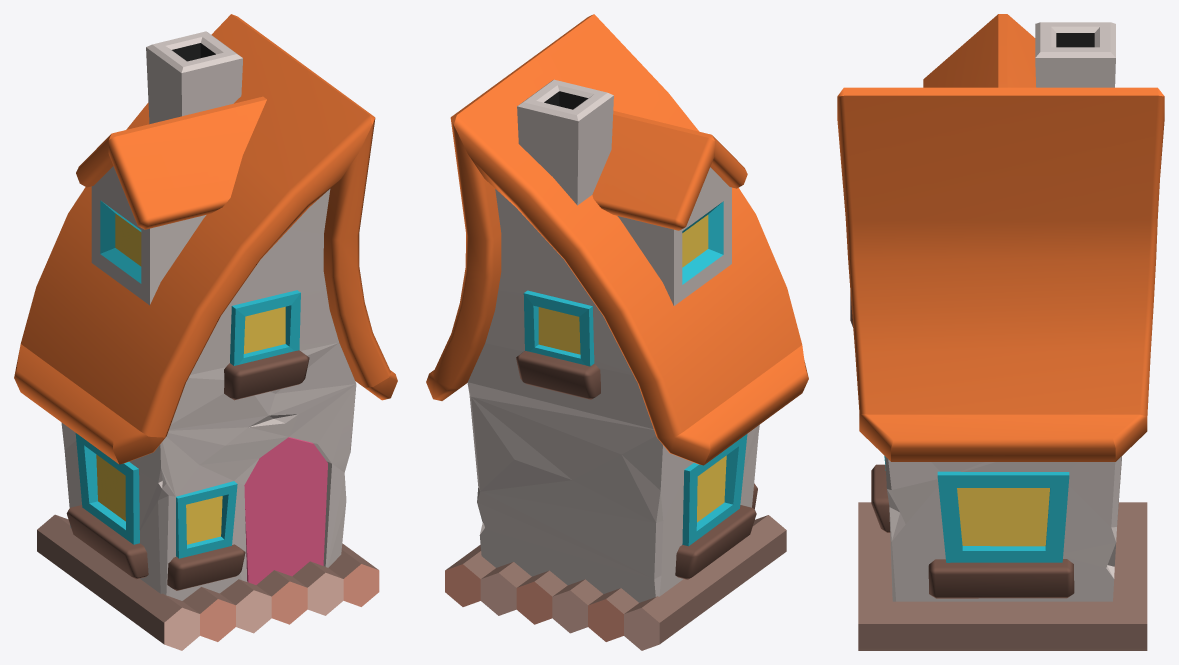
File: house_005.fbx
The picture shows the model from 3 angles, left to right: view 1: azimuth 30°, elevation 25°; view 2: azimuth 150°, elevation 25°; view 3: azimuth 270°, elevation 25°; orthographic projection. The views are drawn at different scales.
Parts seen in each view (by area): view 1: house_005; view 2: house_005; view 3: house_005.
Part boxes in pixels (x1,y1,x2,y2): house_005: [14, 14, 397, 650]; house_005: [426, 14, 808, 650]; house_005: [837, 14, 1164, 650].
Size of the model in its own units: 370 by 324 by 627.
Materials: 2 (2 with a texture image).
